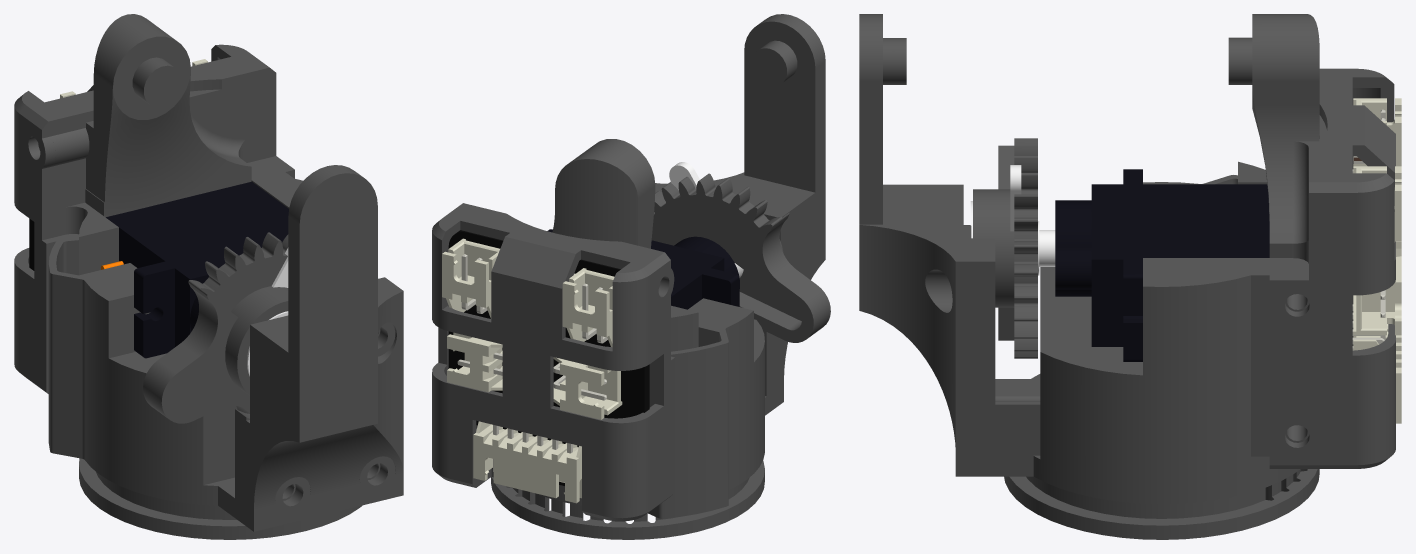
The model's file is Assy_wrist_fore.obj.
The picture shows the model from 3 angles, left to right: view 1: azimuth 30°, elevation 25°; view 2: azimuth 150°, elevation 25°; view 3: azimuth 270°, elevation 25°; orthographic projection. The views are drawn at different scales.
Parts seen in each view (by area): view 1: ソリッド1:4, ソリッド1:3, ソリッド1, ソリッド1:25, ソリッド1:1; view 2: ソリッド1:25, ソリッド1:4, ソリッド1:3, ソリッド1:1, ソリッド1:9, ソリッド1, ソリッド1:14, ソリッド1:6, ソリッド1:24, ソリッド1:7, ソリッド1:10, ソリッド1:2; view 3: ソリッド1:4, ソリッド1:25, ソリッド1:3, ソリッド1, ソリッド1:1, ソリッド1:10, ソリッド1:6, ソリッド1:9, ソリッド1:14, ソリッド1:2.
Boxes of the visible parts, x1,y1,x2,y2 form: ソリッド1:4: (38, 14, 395, 539); ソリッド1:3: (246, 165, 403, 531); ソリッド1: (101, 181, 288, 358); ソリッド1:25: (14, 44, 294, 393); ソリッド1:1: (143, 232, 288, 423); ソリッド1:25: (432, 203, 674, 521); ソリッド1:4: (453, 139, 776, 539); ソリッド1:3: (655, 14, 825, 406); ソリッド1:1: (651, 173, 830, 342); ソリッド1:9: (473, 421, 581, 503); ソリッド1: (547, 229, 739, 309); ソリッド1:14: (442, 238, 499, 318); ソリッド1:6: (562, 268, 614, 347); ソリッド1:24: (448, 230, 649, 485); ソリッド1:7: (553, 357, 622, 419); ソリッド1:10: (447, 332, 502, 392); ソリッド1:2: (669, 162, 743, 277); ソリッド1:4: (971, 14, 1326, 539); ソリッド1:25: (1269, 68, 1395, 468); ソリッド1:3: (859, 14, 971, 476); ソリッド1: (1039, 169, 1269, 361); ソリッド1:1: (973, 138, 1037, 358); ソリッド1:10: (1353, 258, 1401, 335); ソリッド1:6: (1352, 98, 1401, 172); ソリッド1:9: (1352, 304, 1401, 423); ソリッド1:14: (1353, 166, 1401, 242); ソリッド1:2: (1010, 165, 1039, 275).
Size of the model in its own units: 0.0423 by 0.061 by 0.0686.
